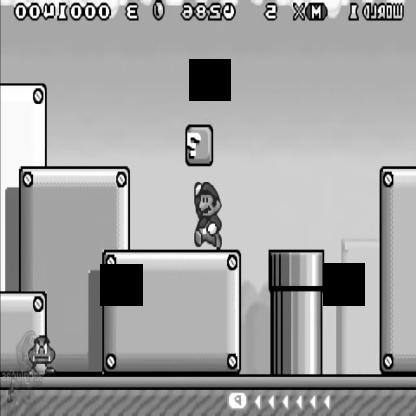Goomba: (26, 330, 55, 378)
Mario: (191, 181, 223, 251)
moneda: (151, 3, 163, 22)
